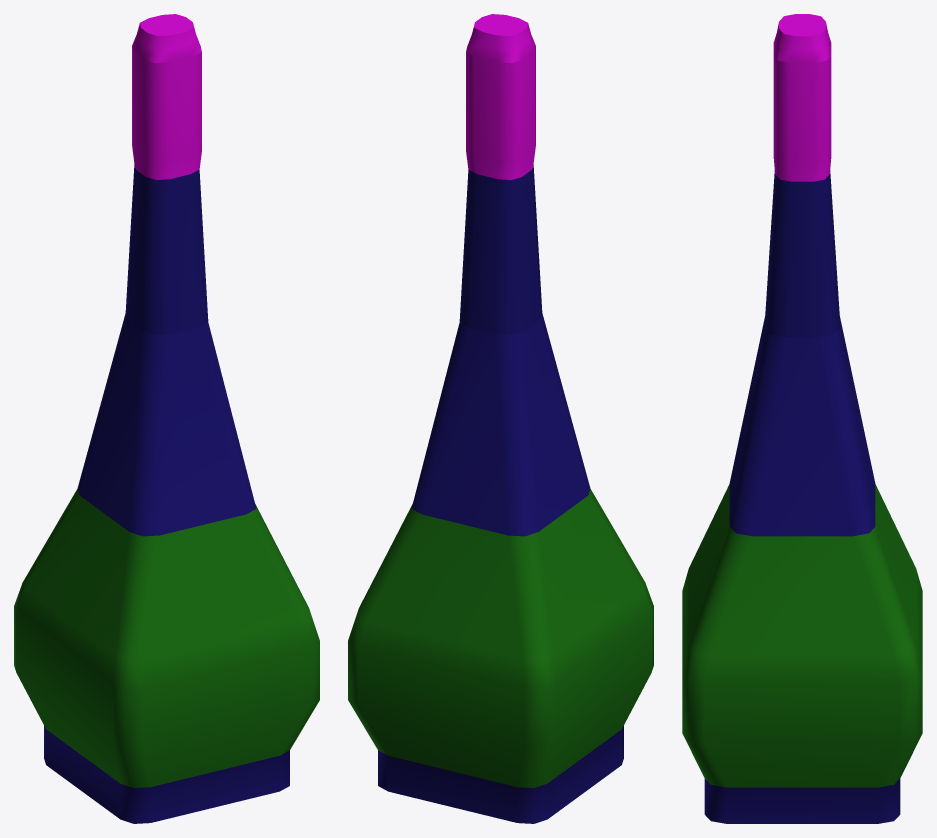
3 renders of one model, left to right at view 1: azimuth 30°, elevation 25°; view 2: azimuth 150°, elevation 25°; view 3: azimuth 270°, elevation 25°, orthographic.
Visible parts, largest first — view 1: B4; view 2: B4; view 3: B4.
Boxes of the visible parts, x1,y1,x2,y2 form: B4: (14, 14, 319, 823); B4: (348, 14, 653, 823); B4: (682, 14, 922, 823).
Size of the model in its own units: 48.38 by 168 by 48.38.
